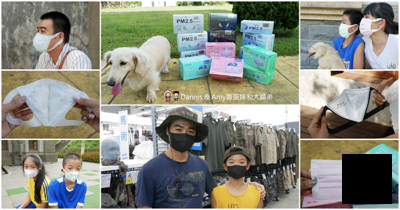with_mask: (168, 124, 197, 154), (32, 25, 57, 54), (227, 157, 248, 181), (360, 15, 379, 37), (64, 164, 82, 183), (339, 19, 354, 39), (23, 162, 38, 179)
